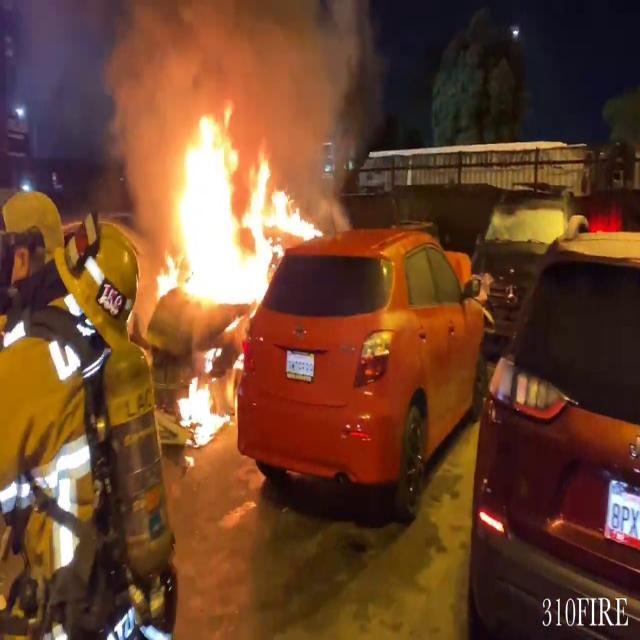Fire: (147, 101, 326, 311), (170, 369, 226, 446)
Smoke: (92, 0, 384, 156)
